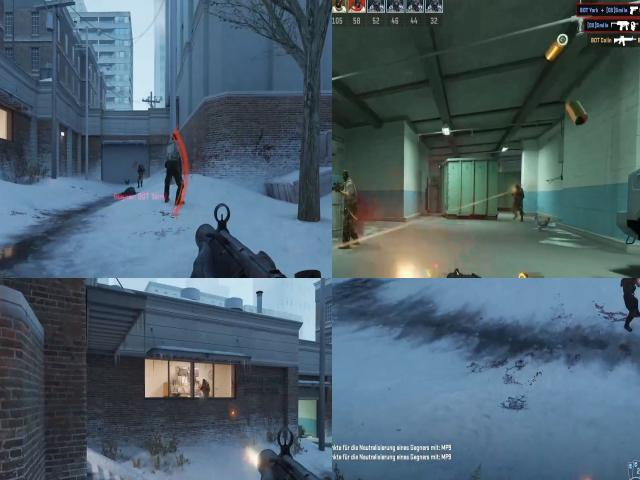CT: (621, 278, 640, 308), (511, 182, 525, 219), (200, 377, 210, 397), (136, 165, 143, 183), (202, 378, 208, 386)
Dead: (116, 187, 138, 198)
T: (338, 166, 359, 224), (162, 135, 182, 178)
T-Head: (342, 169, 352, 185), (170, 133, 180, 147)
